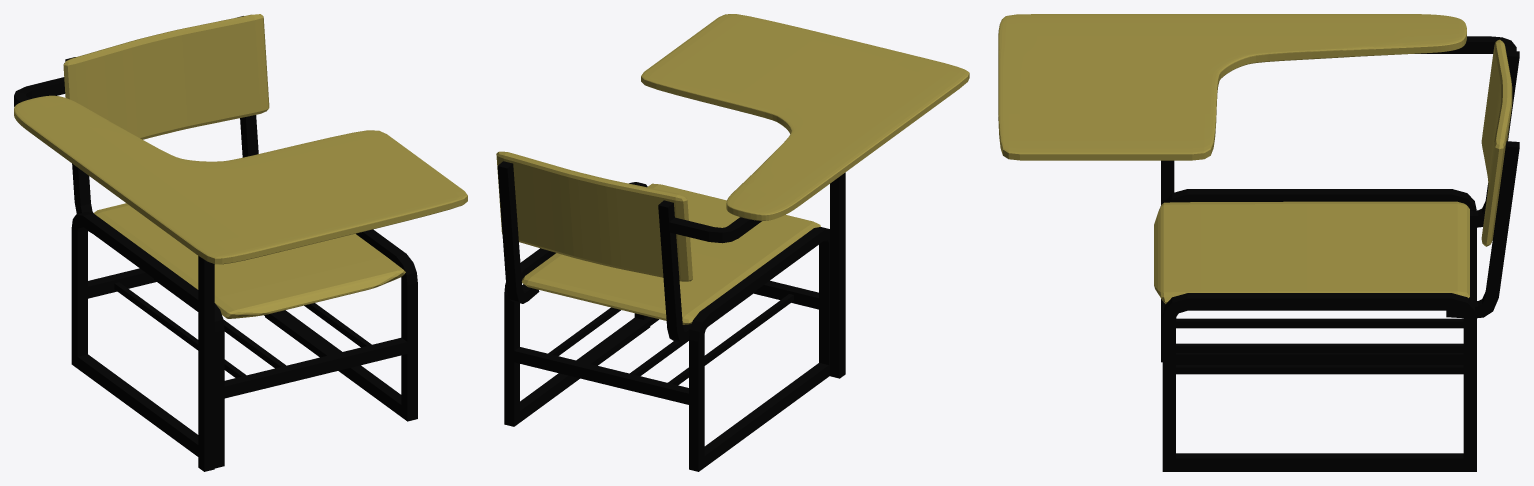
File: Carteira.fbx
The picture shows the model from 3 angles, left to right: view 1: azimuth 30°, elevation 25°; view 2: azimuth 150°, elevation 25°; view 3: azimuth 270°, elevation 25°; orthographic projection. The views are drawn at different scales.
Parts seen in each view (by area): view 1: Cube.006; view 2: Cube.006; view 3: Cube.006.
Part boxes in pixels (<box>): Cube.006: <box>14,14,467,471</box>; Cube.006: <box>496,14,969,471</box>; Cube.006: <box>998,14,1519,471</box>.
Bounding box in the file's own units: 213 × 217 × 314.
